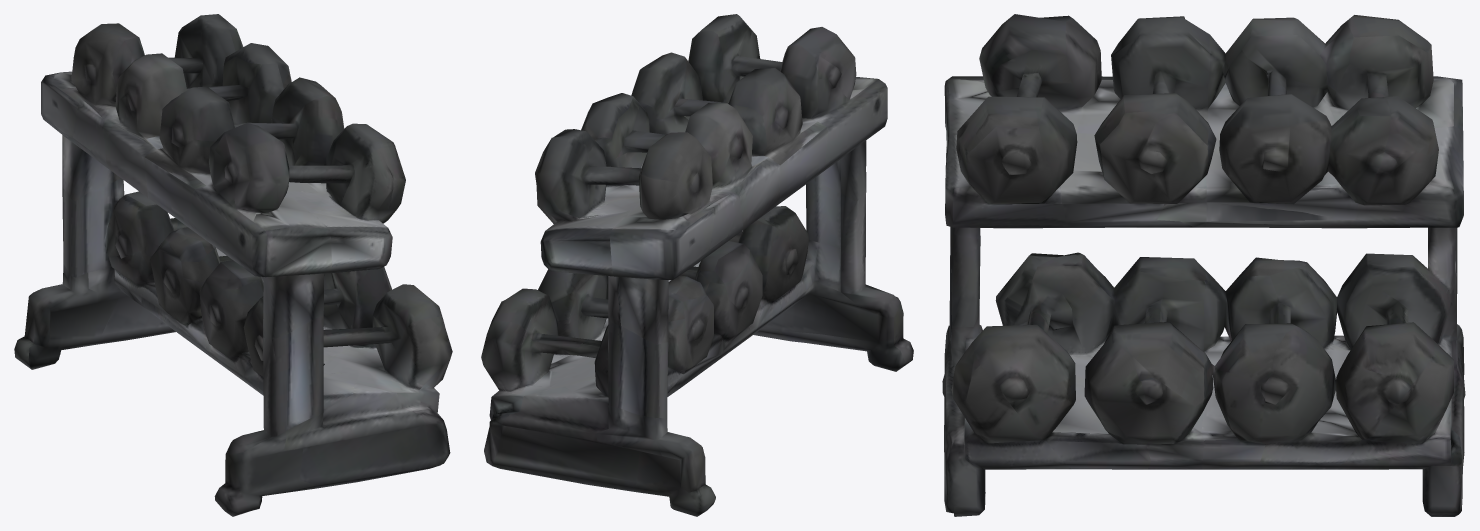
Rendered from dumbbell-rack.glb.
The picture shows the model from 3 angles, left to right: view 1: azimuth 30°, elevation 25°; view 2: azimuth 150°, elevation 25°; view 3: azimuth 270°, elevation 25°; orthographic projection. The views are drawn at different scales.
Parts seen in each view (by area): view 1: tripo_node_a7d2cc4c-7032-488d-aace-d4e6d963c8a2; view 2: tripo_node_a7d2cc4c-7032-488d-aace-d4e6d963c8a2; view 3: tripo_node_a7d2cc4c-7032-488d-aace-d4e6d963c8a2.
Part boxes in pixels (bbox=[...]): tripo_node_a7d2cc4c-7032-488d-aace-d4e6d963c8a2: bbox=[14, 14, 452, 516]; tripo_node_a7d2cc4c-7032-488d-aace-d4e6d963c8a2: bbox=[481, 14, 913, 516]; tripo_node_a7d2cc4c-7032-488d-aace-d4e6d963c8a2: bbox=[942, 14, 1465, 516].
Size of the model in its own units: 0.6139 by 0.8659 by 0.9977.
1 material, 1 textured.
